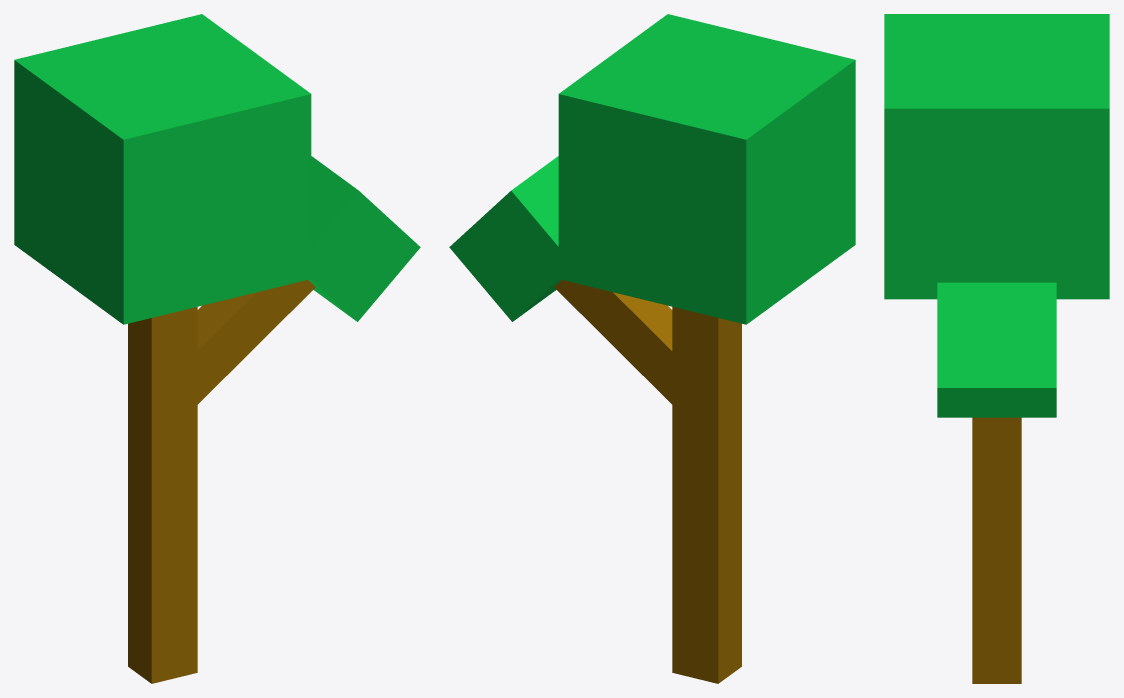
The model's file is tree.fbx.
3 views of the same model, side by side, from view 1: azimuth 30°, elevation 25°; view 2: azimuth 150°, elevation 25°; view 3: azimuth 270°, elevation 25° (orthographic). The views are drawn at different scales.
Visible parts, largest first — view 1: Cube.003, Cube, Cube.002, Cube.001; view 2: Cube.003, Cube, Cube.002, Cube.001; view 3: Cube.003, Cube.002, Cube.
Part boxes in pixels (bbox=[...]): Cube.003: bbox=[14, 14, 311, 324]; Cube: bbox=[128, 307, 197, 683]; Cube.002: bbox=[308, 156, 420, 321]; Cube.001: bbox=[171, 280, 315, 406]; Cube.003: bbox=[558, 14, 855, 324]; Cube: bbox=[672, 307, 741, 683]; Cube.002: bbox=[449, 156, 561, 321]; Cube.001: bbox=[554, 280, 672, 404]; Cube.003: bbox=[884, 14, 1109, 299]; Cube.002: bbox=[937, 282, 1056, 417]; Cube: bbox=[972, 417, 1021, 683].
Bounding box in the file's own units: 482 × 845 × 282.
